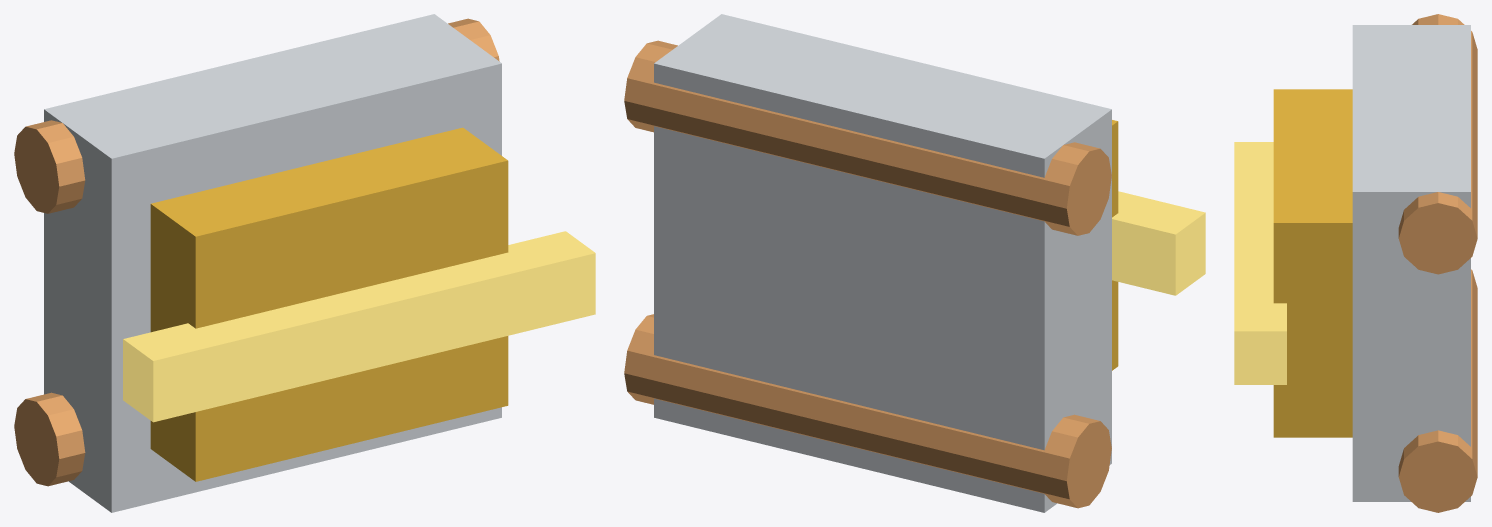
The model's file is ENERGY-012.glb.
3 renders of one model, left to right at view 1: azimuth 30°, elevation 25°; view 2: azimuth 150°, elevation 25°; view 3: azimuth 270°, elevation 25°, orthographic. The views are drawn at different scales.
Parts seen in each view (by area): view 1: ENERGY-012; view 2: ENERGY-012; view 3: ENERGY-012.
Boxes of the visible parts, x1,y1,x2,y2 form: ENERGY-012: (14, 14, 595, 512); ENERGY-012: (624, 14, 1205, 512); ENERGY-012: (1234, 14, 1477, 512).
Size of the model in its own units: 0.34 by 0.26 by 0.185.
